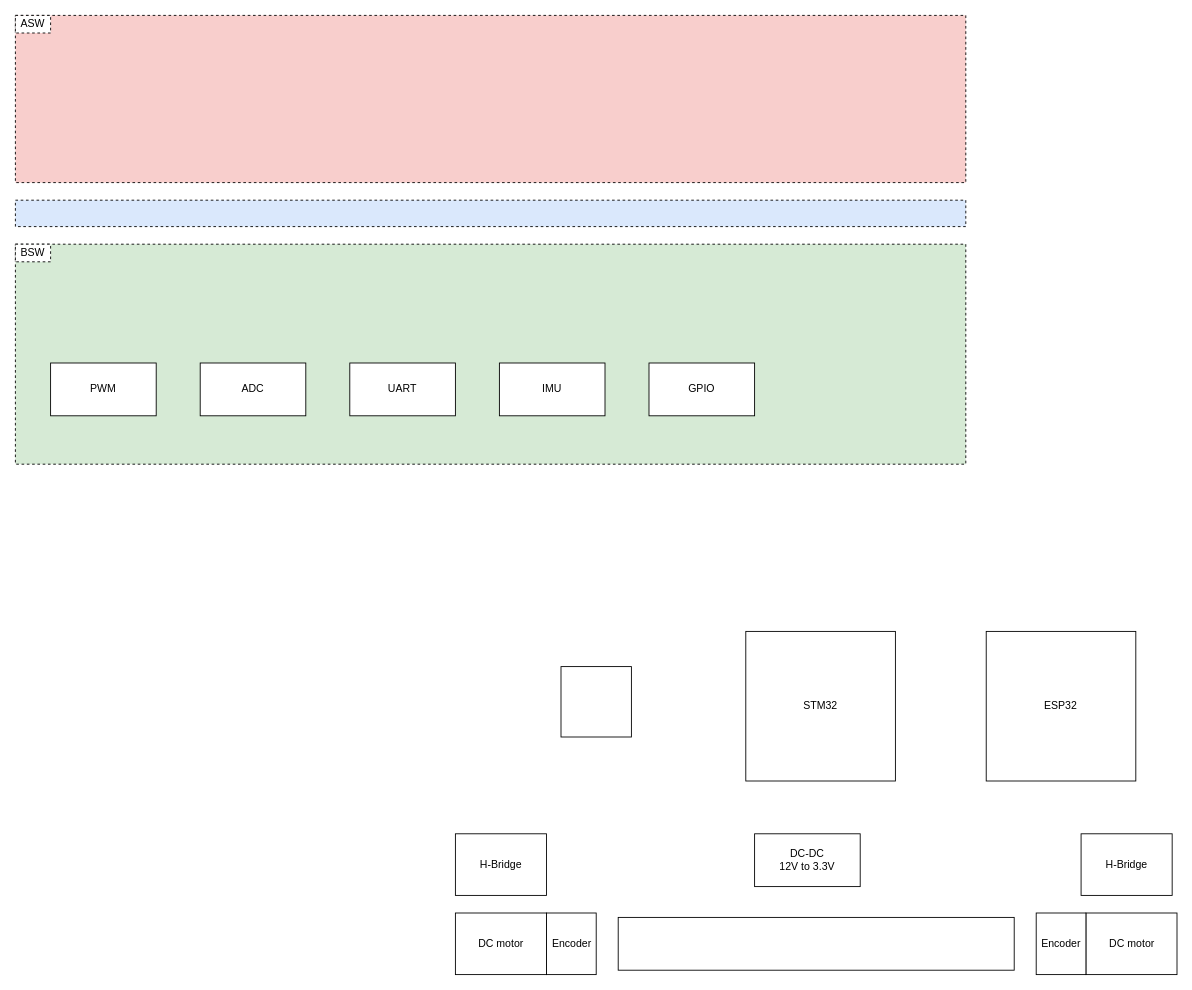
Image size: 1192x990. Some labels were removed from this diagram. Here are the shapes that lost their labels. From the top down, the centre of each, then its label:
point 490,213: RTE
point 595,701: MPU
point 815,943: Battery 12V DC
